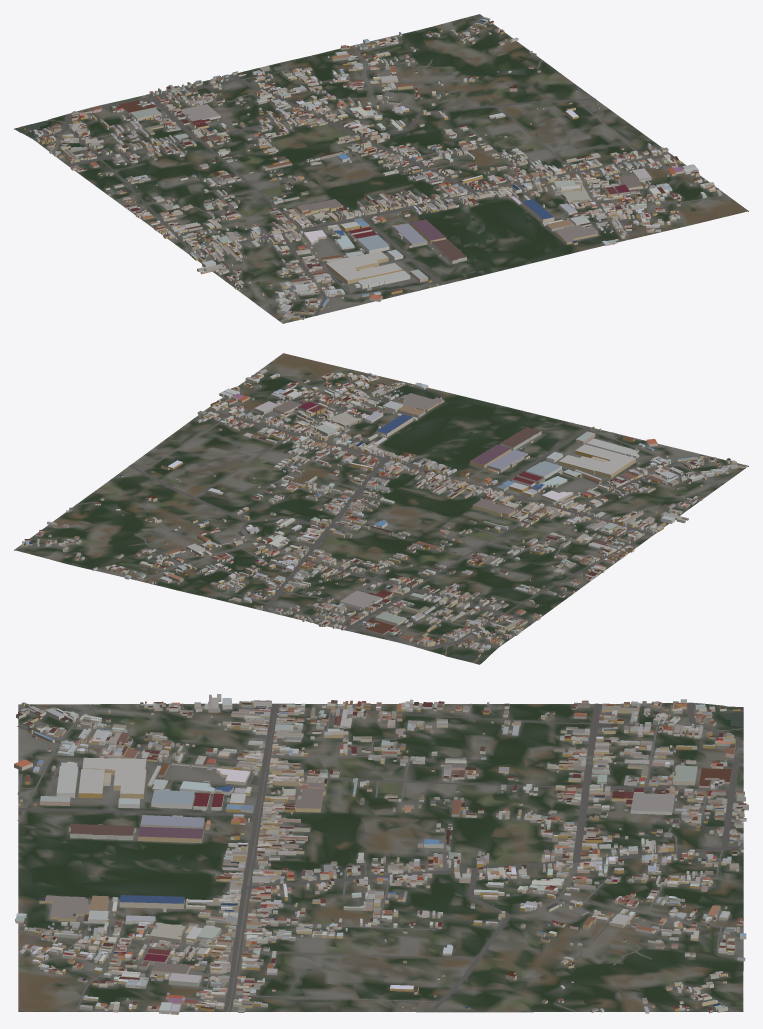
3 renders of one model, top to bottom at view 1: azimuth 30°, elevation 25°; view 2: azimuth 150°, elevation 25°; view 3: azimuth 270°, elevation 25°, orthographic. The views are drawn at different scales.
Parts seen in each view (by area): view 1: ground, buildings, roads; view 2: ground, buildings, roads; view 3: ground, buildings, roads.
Part boxes in pixels (<box>): ground: <box>14,14,748,323</box>; buildings: <box>20,16,721,322</box>; roads: <box>33,17,727,322</box>; ground: <box>14,353,748,664</box>; buildings: <box>21,369,747,662</box>; roads: <box>17,369,745,655</box>; ground: <box>18,702,743,1012</box>; buildings: <box>14,694,748,1014</box>; roads: <box>17,702,743,1012</box>.
Size of the model in its own units: 1444 by 24.6 by 1419.
